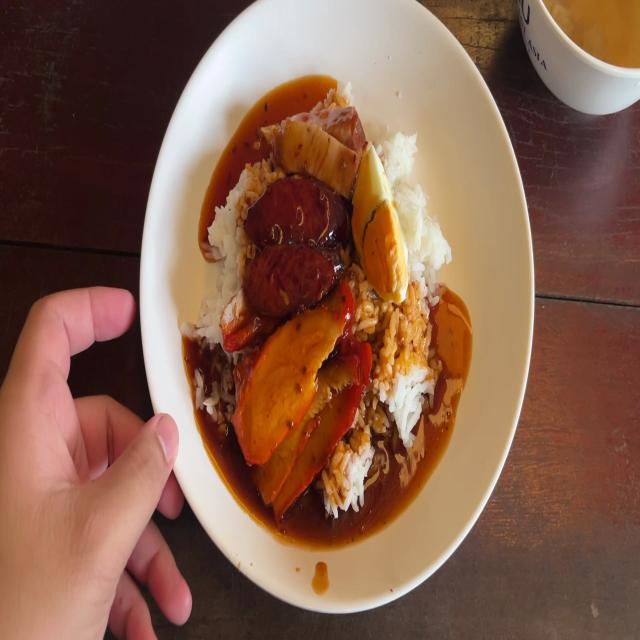red_pork_and_crispy_pork: (348, 152, 408, 307)
stir_fried_basil: (240, 180, 342, 310), (241, 180, 343, 238), (235, 247, 347, 296)
